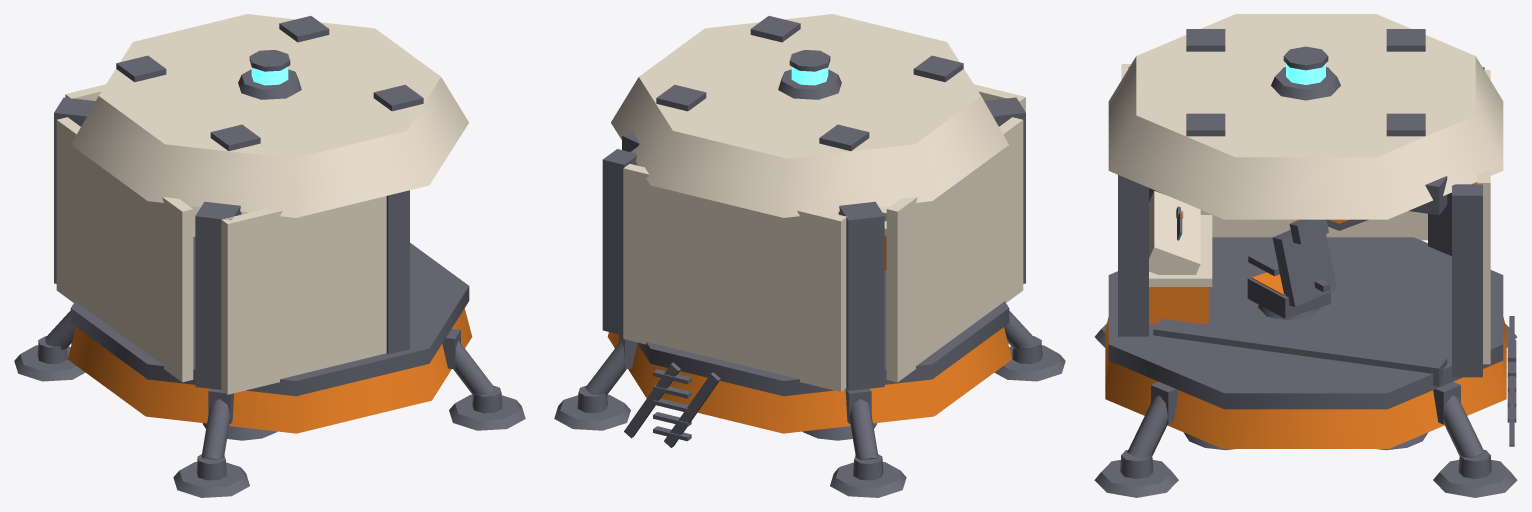
The model's file is asset.glb.
3 views of the same model, side by side, from view 1: azimuth 30°, elevation 25°; view 2: azimuth 150°, elevation 25°; view 3: azimuth 270°, elevation 25° (orthographic). The views are drawn at different scales.
Visible parts, largest first — view 1: Mesh_RoofShell, Mesh_WallLeft, Mesh_WallBackAft, Mesh_OrangeSkirt, Mesh_HullBelt, Mesh_CornerPost_BL, Mesh_ArchPostLeft, Mesh_Footpad_1, Mesh_Footpad_2, Mesh_Footpad_3, Mesh_LegStrut_2, Mesh_CornerPost_BR (+11 smaller); view 2: Mesh_RoofShell, Mesh_WallRight, Mesh_WallBackAft, Mesh_OrangeSkirt, Mesh_CornerPost_BR, Mesh_HullBelt, Mesh_ArchPostRight, Mesh_Footpad_4, Mesh_Footpad_3, Mesh_Footpad_2, Mesh_LegStrut_3, Mesh_CornerPost_BL (+13 smaller); view 3: Mesh_RoofShell, Mesh_HullBelt, Mesh_OrangeSkirt, Mesh_ArchPostRight, Mesh_ArchThreshold, Mesh_ArchPostLeft, Mesh_ConsoleWedge, Mesh_WallBackAft, Mesh_BackrestShell, Mesh_ConsoleBase, Mesh_Footpad_1, Mesh_Footpad_4 (+20 smaller).
Boxes of the visible parts, bbox=[...] form: Mesh_RoofShell: bbox=[71, 14, 468, 217]; Mesh_WallLeft: bbox=[221, 196, 386, 394]; Mesh_WallBackAft: bbox=[56, 117, 193, 382]; Mesh_OrangeSkirt: bbox=[67, 308, 472, 433]; Mesh_HullBelt: bbox=[70, 236, 469, 396]; Mesh_CornerPost_BL: bbox=[195, 201, 241, 389]; Mesh_ArchPostLeft: bbox=[386, 190, 409, 354]; Mesh_Footpad_1: bbox=[449, 394, 525, 430]; Mesh_Footpad_2: bbox=[173, 462, 249, 497]; Mesh_Footpad_3: bbox=[14, 345, 85, 381]; Mesh_LegStrut_2: bbox=[202, 399, 230, 460]; Mesh_CornerPost_BR: bbox=[54, 97, 95, 283]; Mesh_RoofShell: bbox=[611, 14, 1008, 217]; Mesh_WallRight: bbox=[623, 164, 846, 391]; Mesh_WallBackAft: bbox=[886, 117, 1023, 382]; Mesh_OrangeSkirt: bbox=[607, 327, 1012, 433]; Mesh_CornerPost_BR: bbox=[838, 201, 884, 390]; Mesh_HullBelt: bbox=[637, 270, 1009, 396]; Mesh_ArchPostRight: bbox=[602, 149, 637, 335]; Mesh_Footpad_4: bbox=[554, 394, 630, 430]; Mesh_Footpad_3: bbox=[830, 462, 906, 497]; Mesh_Footpad_2: bbox=[994, 345, 1065, 381]; Mesh_LegStrut_3: bbox=[849, 399, 877, 460]; Mesh_CornerPost_BL: bbox=[984, 97, 1025, 283]; Mesh_RoofShell: bbox=[1108, 14, 1503, 219]; Mesh_HullBelt: bbox=[1108, 237, 1503, 409]; Mesh_OrangeSkirt: bbox=[1105, 317, 1506, 448]; Mesh_ArchPostRight: bbox=[1452, 184, 1482, 377]; Mesh_ArchThreshold: bbox=[1153, 318, 1447, 386]; Mesh_ArchPostLeft: bbox=[1118, 175, 1148, 336]; Mesh_ConsoleWedge: bbox=[1149, 191, 1200, 274]; Mesh_WallBackAft: bbox=[1200, 210, 1427, 240]; Mesh_BackrestShell: bbox=[1272, 230, 1336, 306]; Mesh_ConsoleBase: bbox=[1149, 287, 1208, 323]; Mesh_Footpad_1: bbox=[1094, 460, 1178, 497]; Mesh_Footpad_4: bbox=[1433, 460, 1517, 497].
Size of the model in its own units: 3.8 by 3.49 by 3.8.
